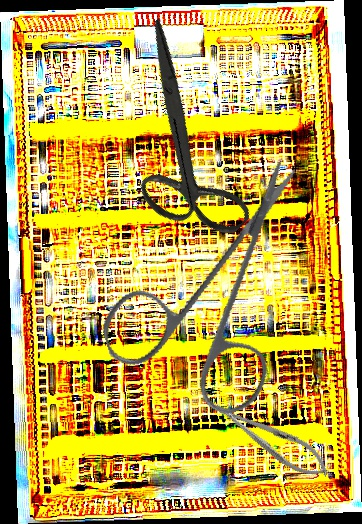Iris Scissors: (71, 158, 355, 441), (59, 17, 307, 262)
Needle Holder: (208, 392, 336, 487)
